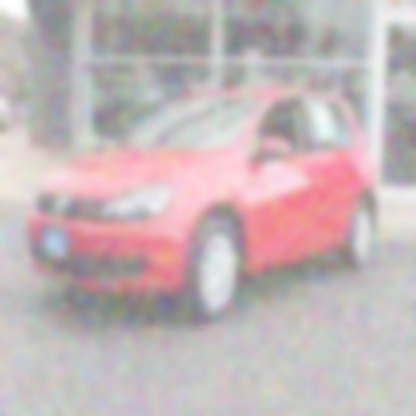Vehicle: (31, 90, 379, 320)
